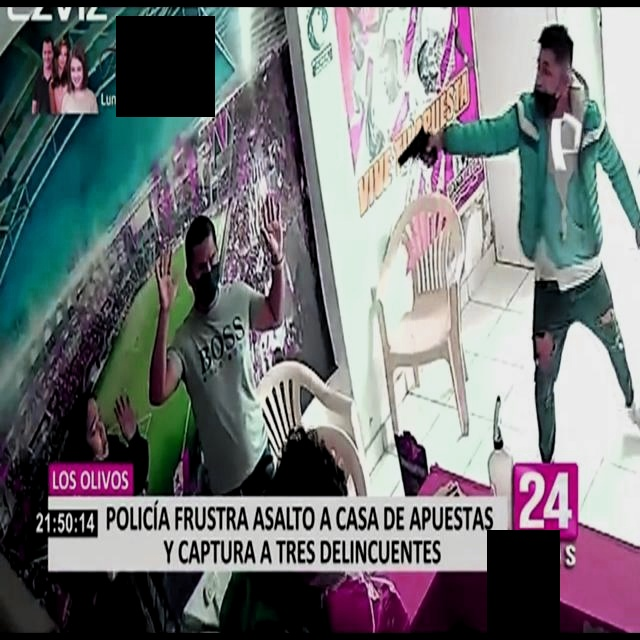gun: (388, 114, 443, 183)
